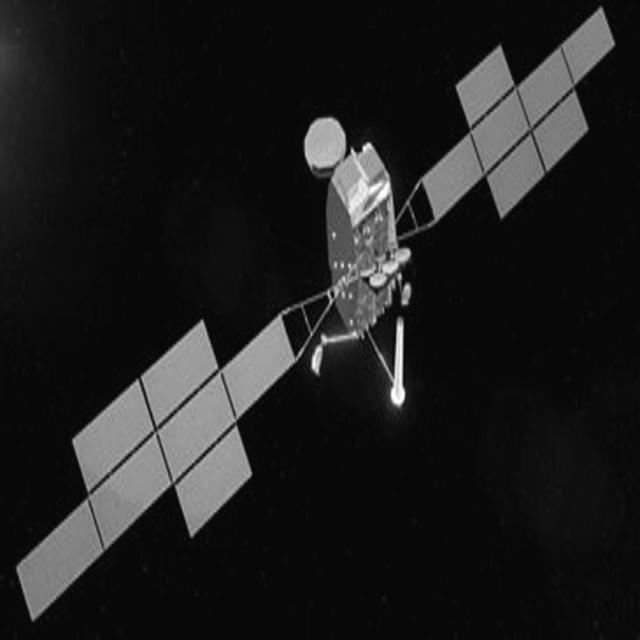satellite: (15, 10, 621, 618)
